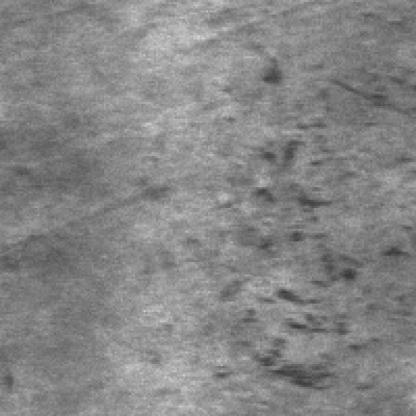rolled-in_scale: (208, 66, 389, 400)
